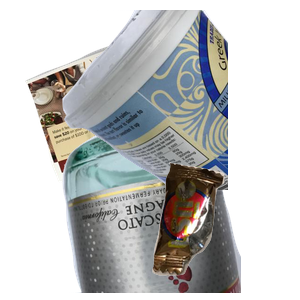glass: (60, 120, 300, 300)
paper: (23, 24, 232, 199)
plastic: (60, 10, 300, 190)
trash: (150, 160, 300, 300)
